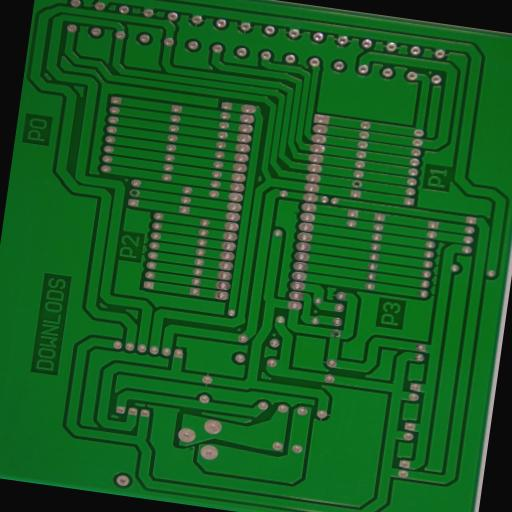missing_hole: (128, 188, 139, 198), (350, 179, 362, 188), (330, 329, 340, 338)
